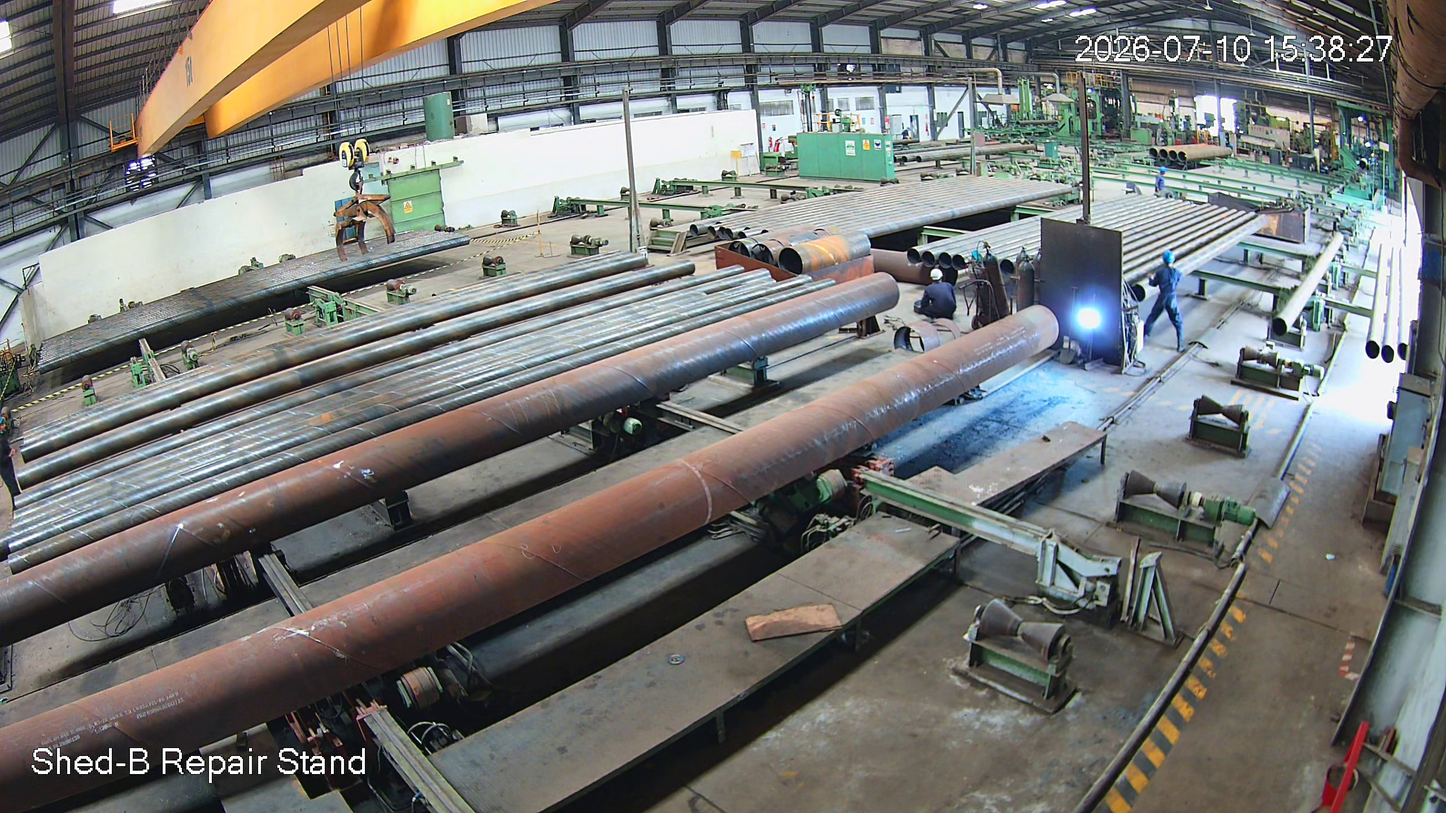Helmet: (928, 259, 950, 290), (1159, 249, 1182, 271)
Person: (1149, 251, 1182, 345), (922, 261, 954, 322)
